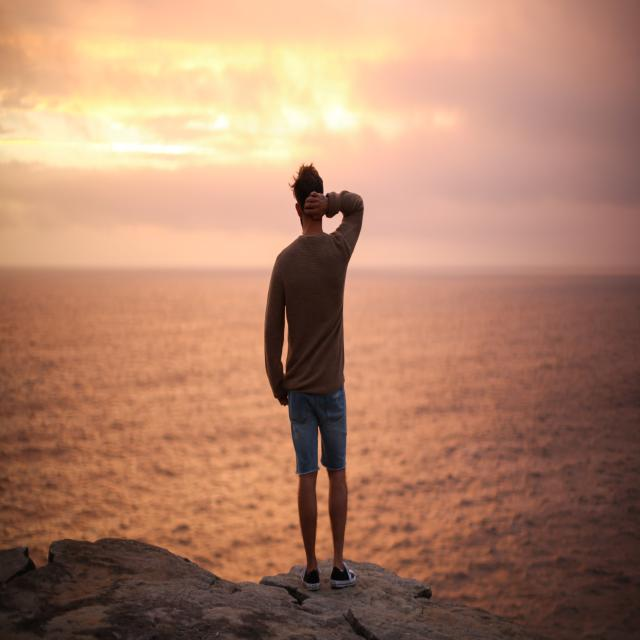standing: (263, 162, 366, 592)
